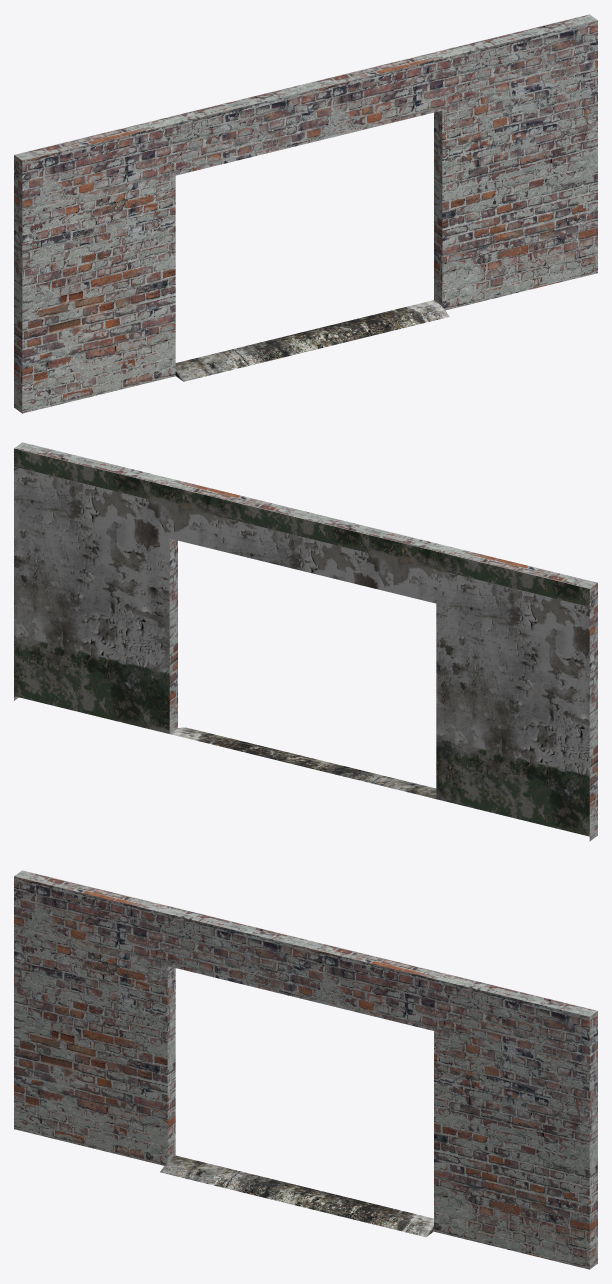
File: Factory2Wall03.FBX
The picture shows the model from 3 angles, top to bottom: view 1: azimuth 30°, elevation 25°; view 2: azimuth 150°, elevation 25°; view 3: azimuth 330°, elevation 25°; orthographic projection.
Parts seen in each view (by area): view 1: Factory2Wall03; view 2: Factory2Wall03; view 3: Factory2Wall03.
Boxes of the visible parts, x1,y1,x2,y2 form: Factory2Wall03: [14, 14, 597, 413]; Factory2Wall03: [14, 442, 597, 841]; Factory2Wall03: [14, 870, 597, 1269].
Bounding box in the file's own units: 1200 × 503 × 58.01.
